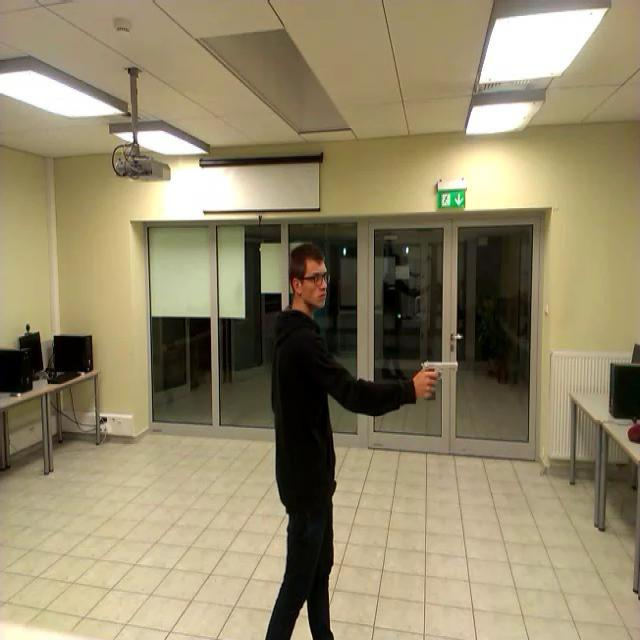weapon: (422, 360, 458, 384)
